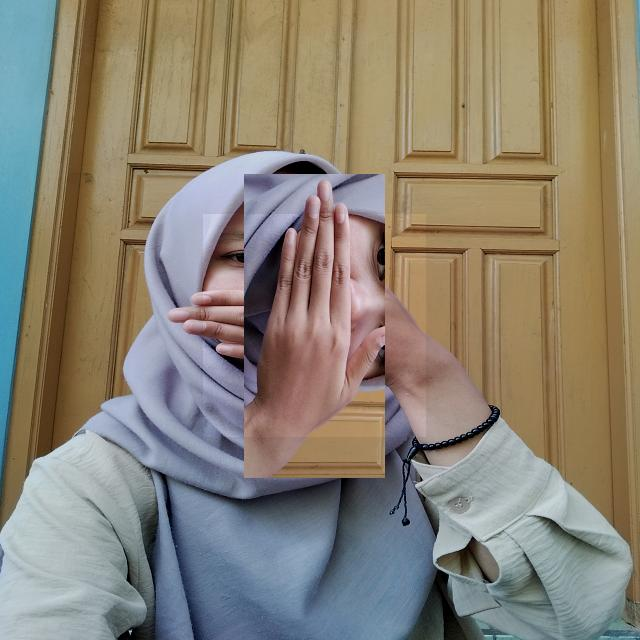buruk: (203, 214, 426, 437)
